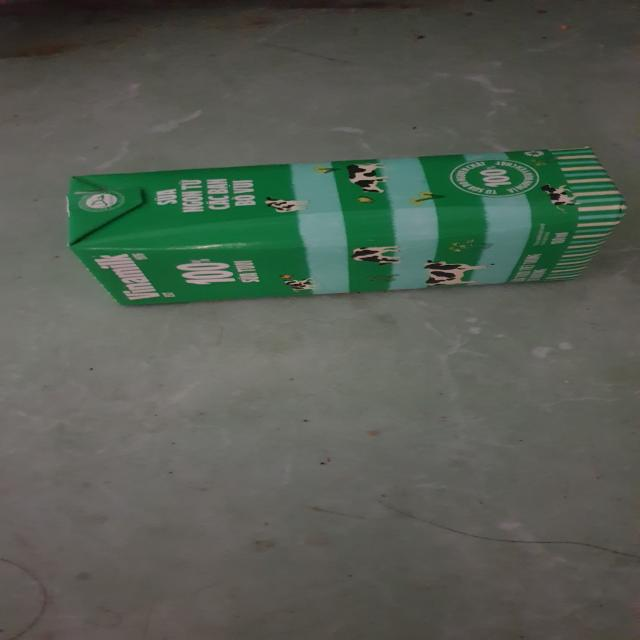Vina: (59, 143, 636, 311)
